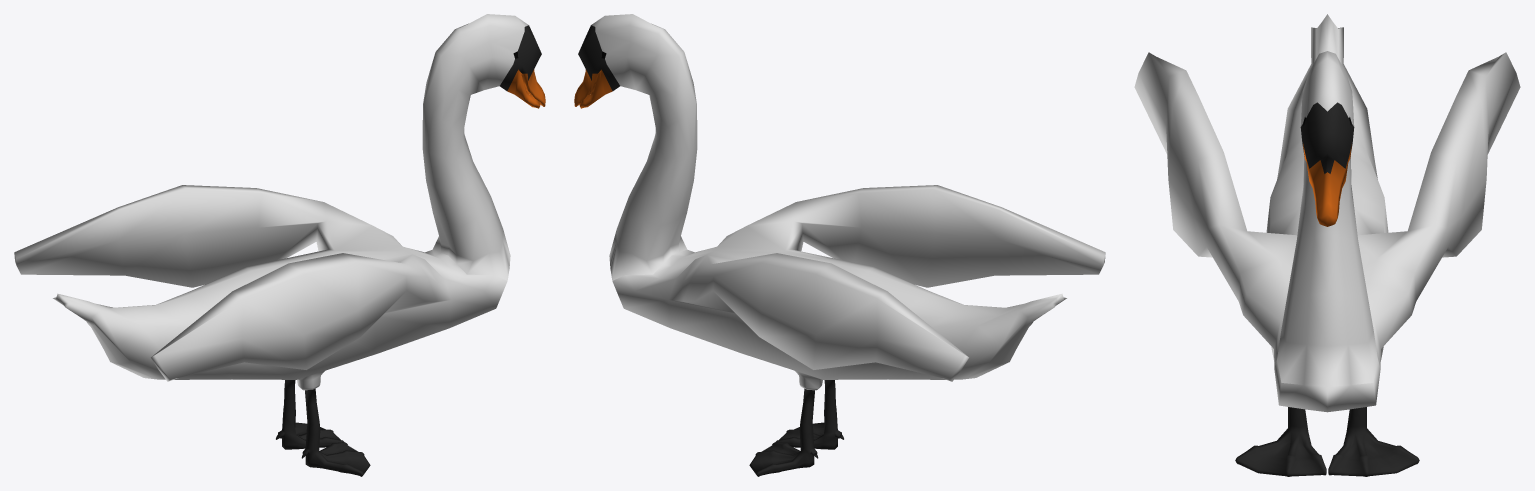
File: swan.glb
The picture shows the model from 3 angles, left to right: view 1: azimuth 30°, elevation 25°; view 2: azimuth 150°, elevation 25°; view 3: azimuth 270°, elevation 25°; orthographic projection. The views are drawn at different scales.
Parts seen in each view (by area): view 1: Cube.040; view 2: Cube.040; view 3: Cube.040.
Part boxes in pixels (box(x1,y1,x2,y2)): Cube.040: box(14, 14, 545, 476); Cube.040: box(574, 14, 1105, 476); Cube.040: box(1134, 14, 1520, 476).
Bounding box in the file's own units: 0.5808 × 0.4513 × 0.3126.
